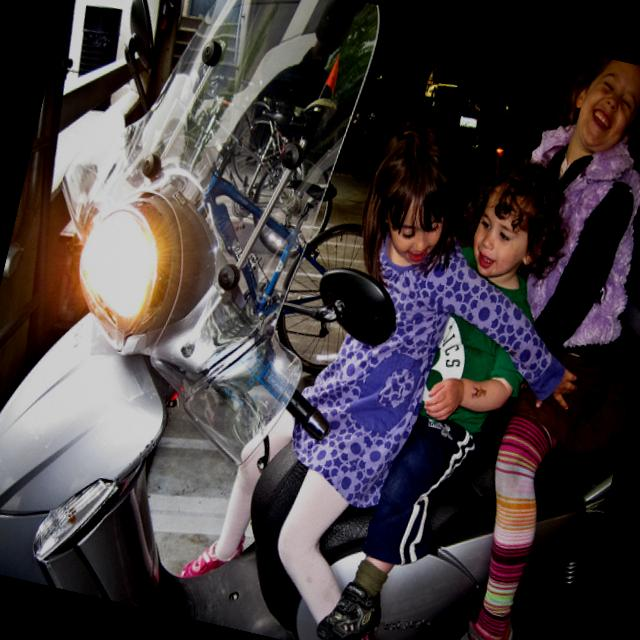Vehicle: (0, 0, 640, 640), (360, 41, 522, 186), (334, 88, 390, 174)
